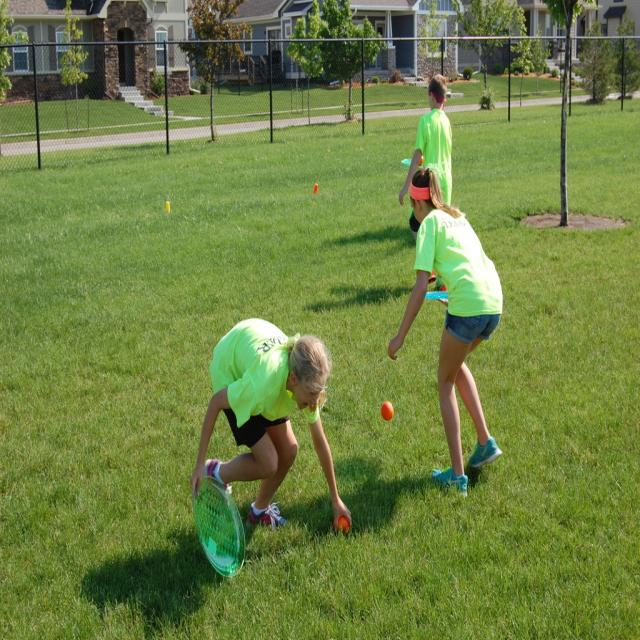Ball: (379, 400, 395, 421), (337, 513, 349, 530)
